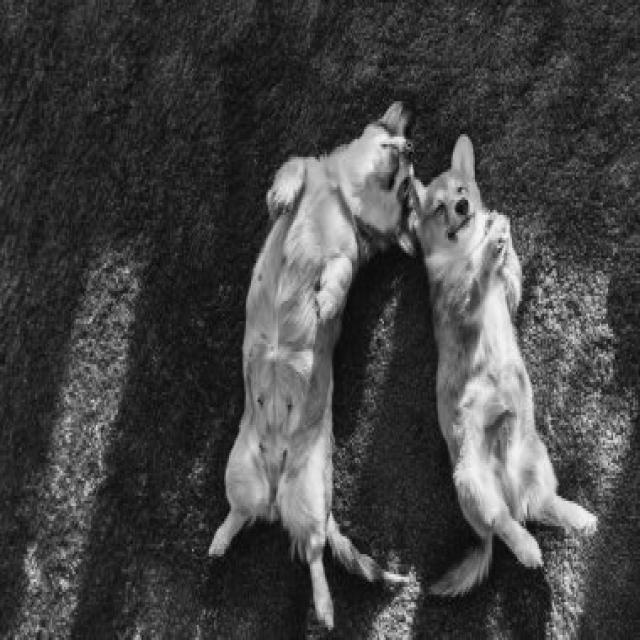Animal: (191, 86, 417, 592), (396, 167, 604, 583)
